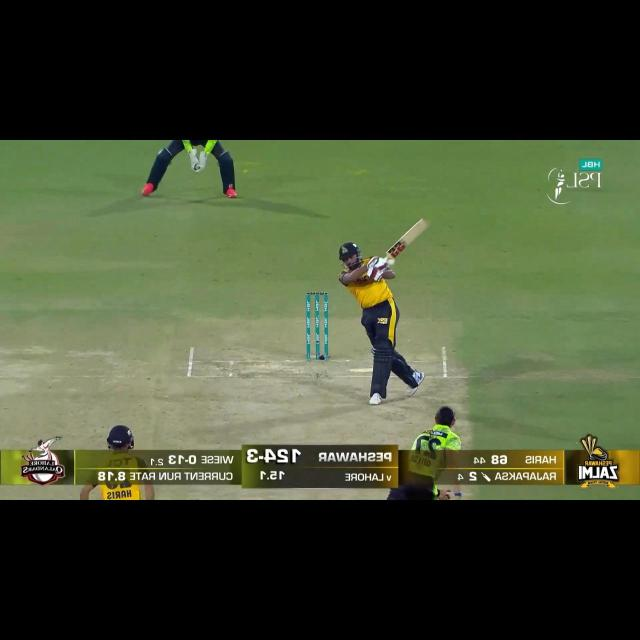bat: (384, 219, 429, 262)
toe: (416, 218, 429, 232)
